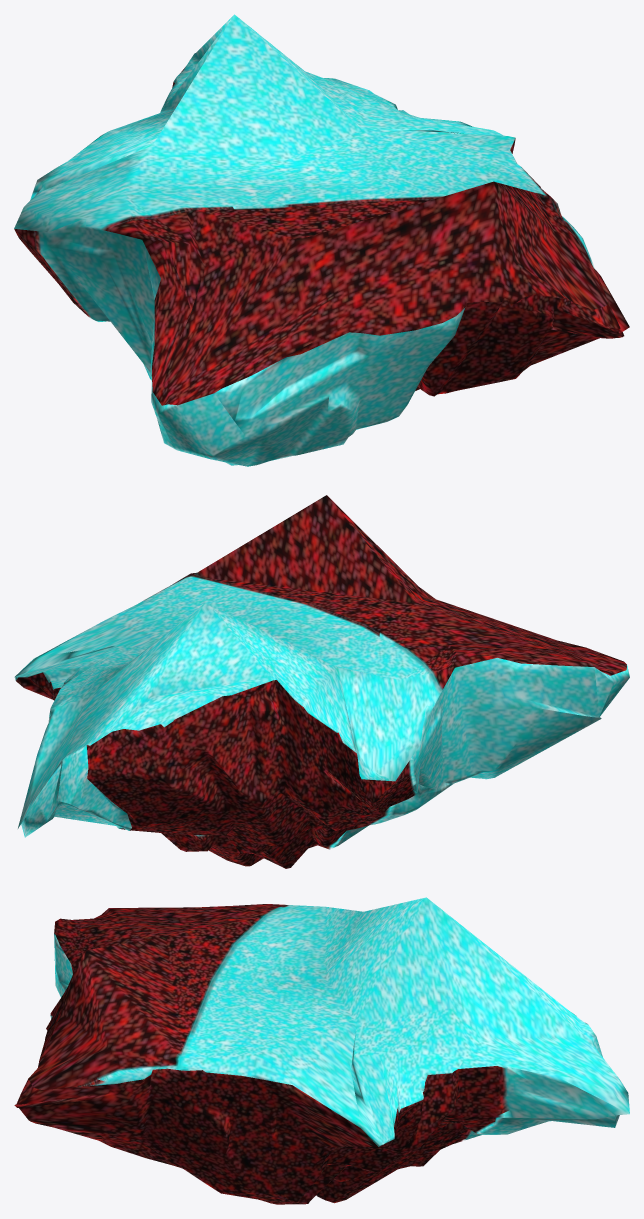
3 renders of one model, top to bottom at view 1: azimuth 30°, elevation 25°; view 2: azimuth 150°, elevation 25°; view 3: azimuth 270°, elevation 25°, orthographic. The views are drawn at different scales.
Visible parts, largest first — view 1: SM_VFX_Kothaar_Shield_V3_LOD0; view 2: SM_VFX_Kothaar_Shield_V3_LOD0; view 3: SM_VFX_Kothaar_Shield_V3_LOD0.
Boxes of the visible parts, box(x1,y1,x2,y2) form: SM_VFX_Kothaar_Shield_V3_LOD0: box(14, 14, 629, 466); SM_VFX_Kothaar_Shield_V3_LOD0: box(14, 495, 629, 868); SM_VFX_Kothaar_Shield_V3_LOD0: box(14, 897, 629, 1204).
Size of the model in its own units: 52.34 by 31.88 by 60.88.
